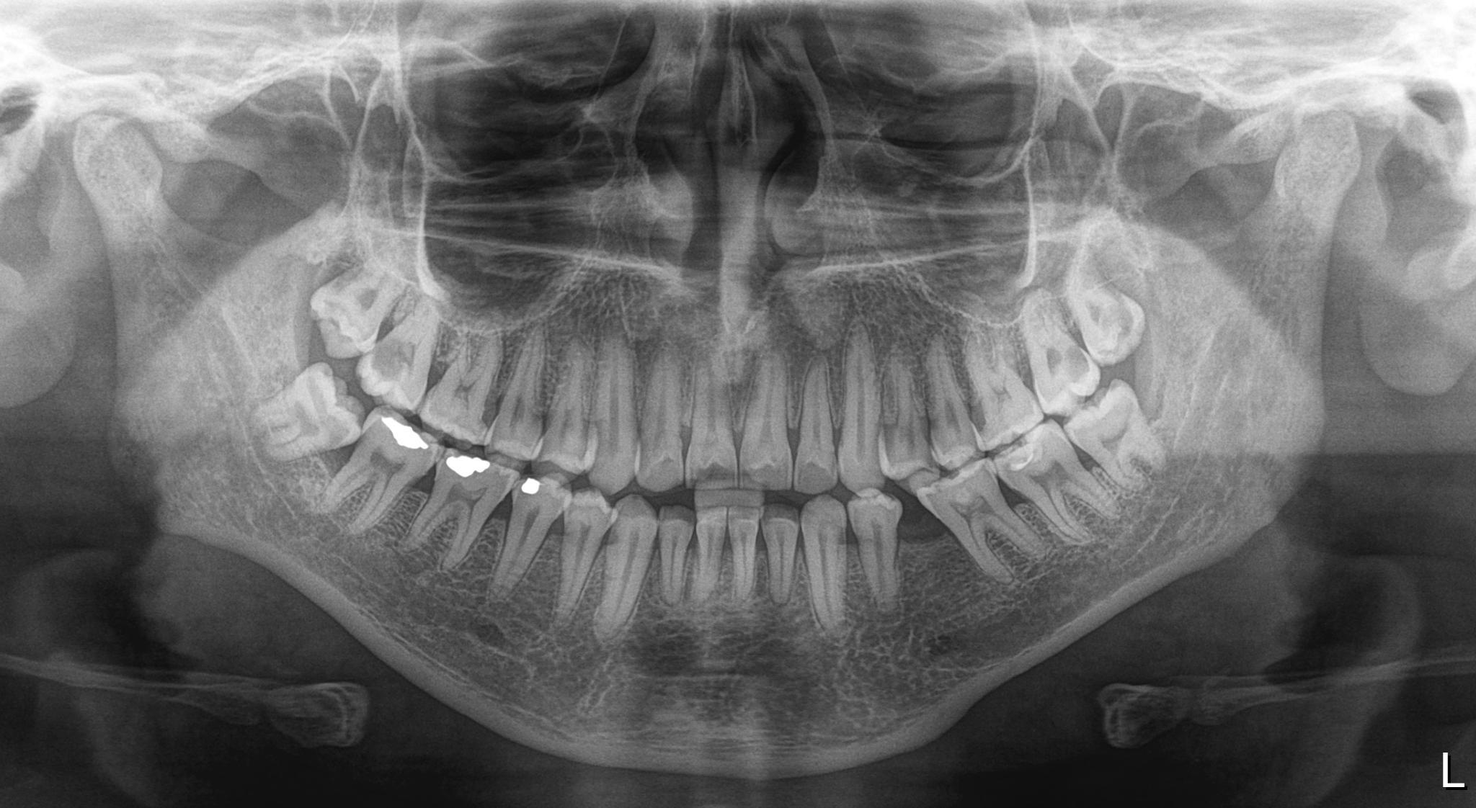Impacted Third Molar: (1065, 252, 1155, 358), (1072, 392, 1175, 484), (245, 376, 363, 453), (312, 263, 388, 347)
